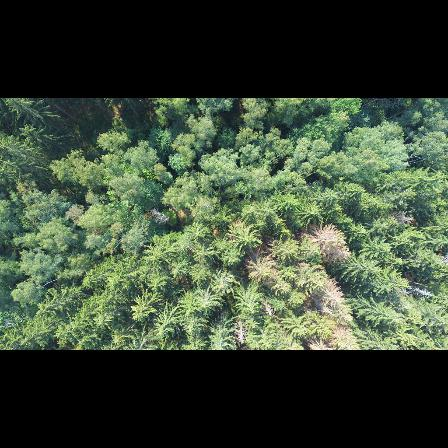Dead: (310, 224, 353, 262), (312, 274, 344, 316), (149, 208, 170, 223)
